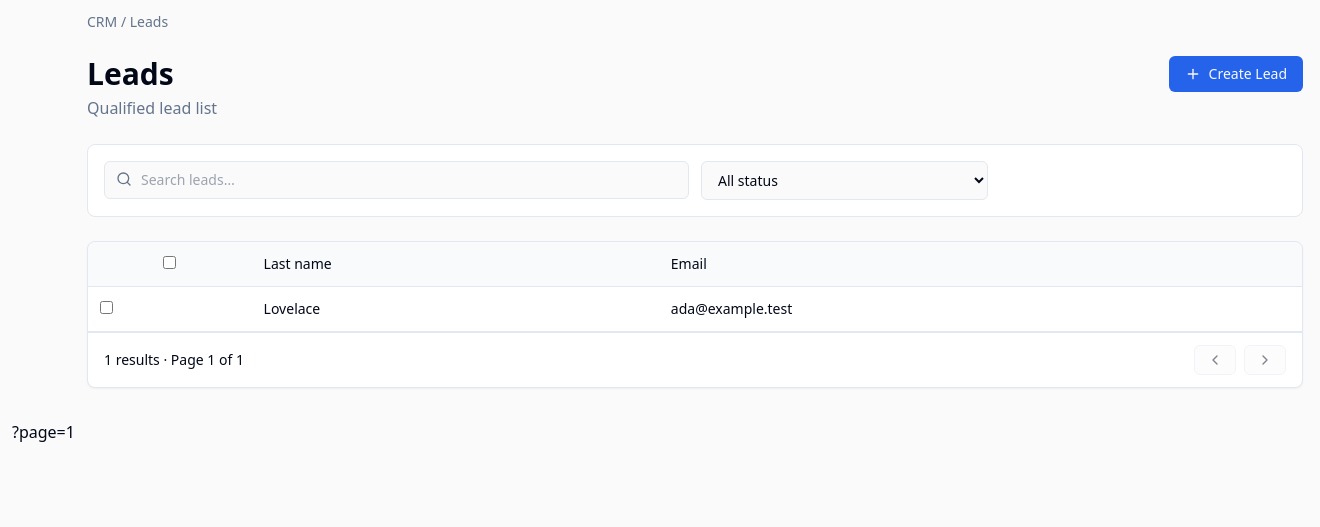
Test: CRM detail, dashboard, kanban, and list pages › drives EntityList URL filters, ordering, empty reset, and page-local selection
The image size is (1320, 527).
Type "ada" into the field with placeholder "Search leads…" at [396, 180], box [104,161,689,199]
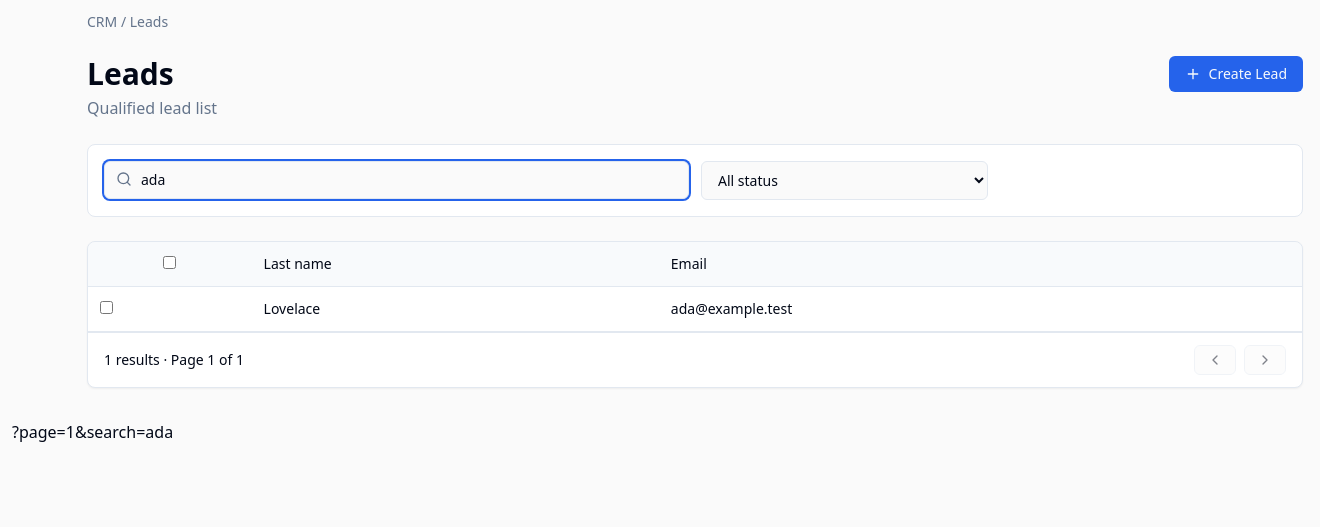
Expected: the text named "location-search" shows "search=ada", [12,421,173,443]
Select "Qualified" in the dropdown named "Status" at [844, 180], box [701,161,988,200]
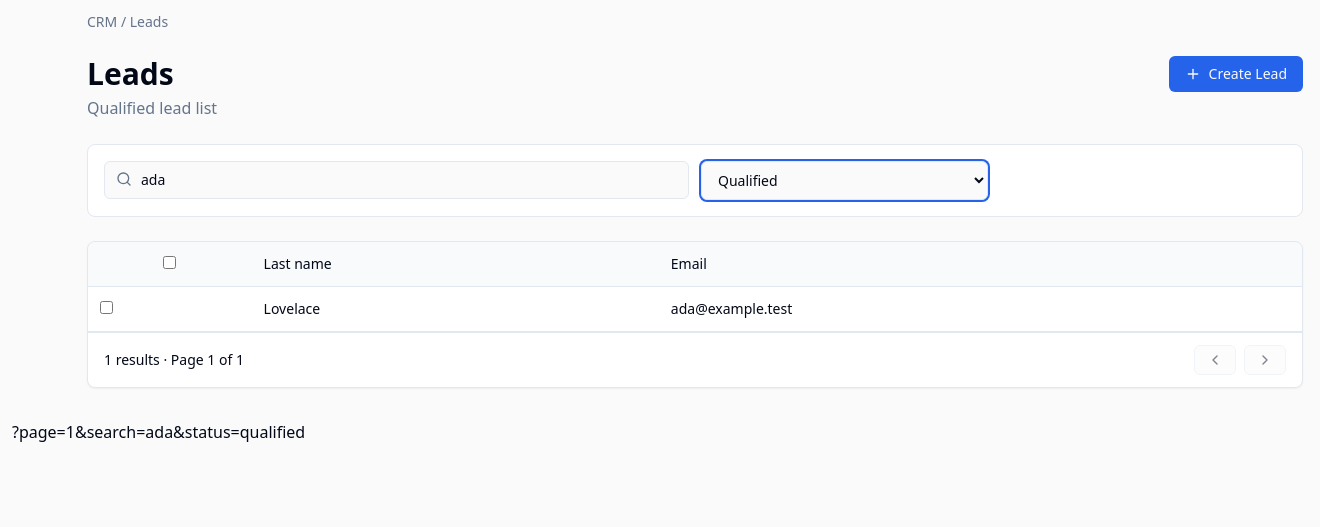
Expected: the text named "location-search" shows "status=qualified", [12,421,305,443]
Click the button "Last name" at [298, 264], box [264,254,332,274]
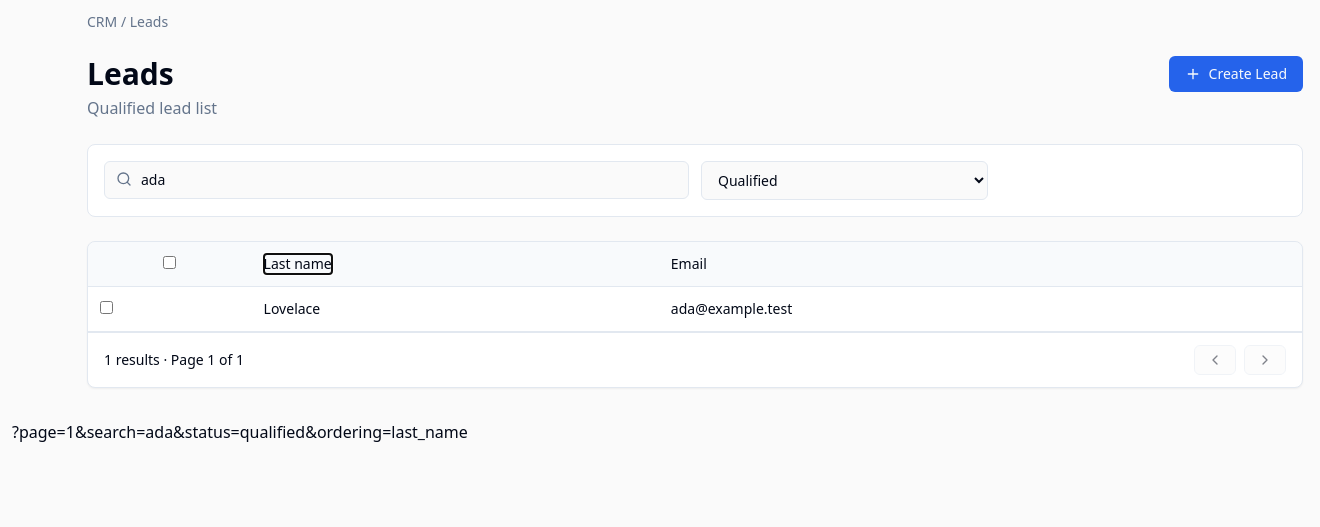
Expected: the text named "location-search" shows "ordering=last_name", [12,421,468,443]
Click the checkbox named "Select all on this page" at [170, 262], box [163,256,176,269]
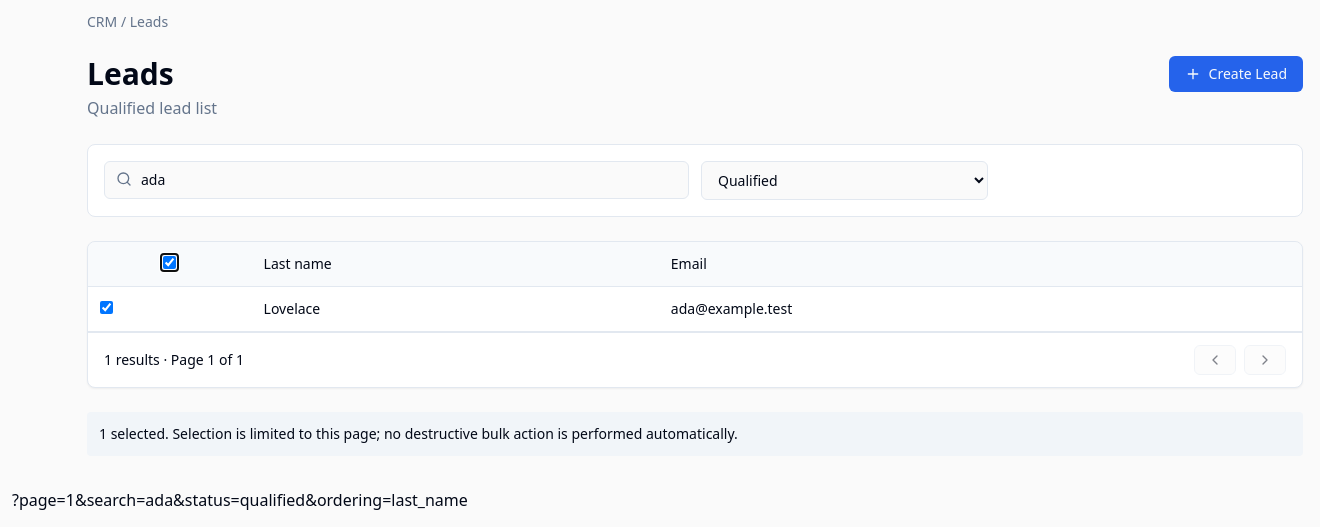
Expected: the text "1 selected" is shown, [87,412,1303,456]
